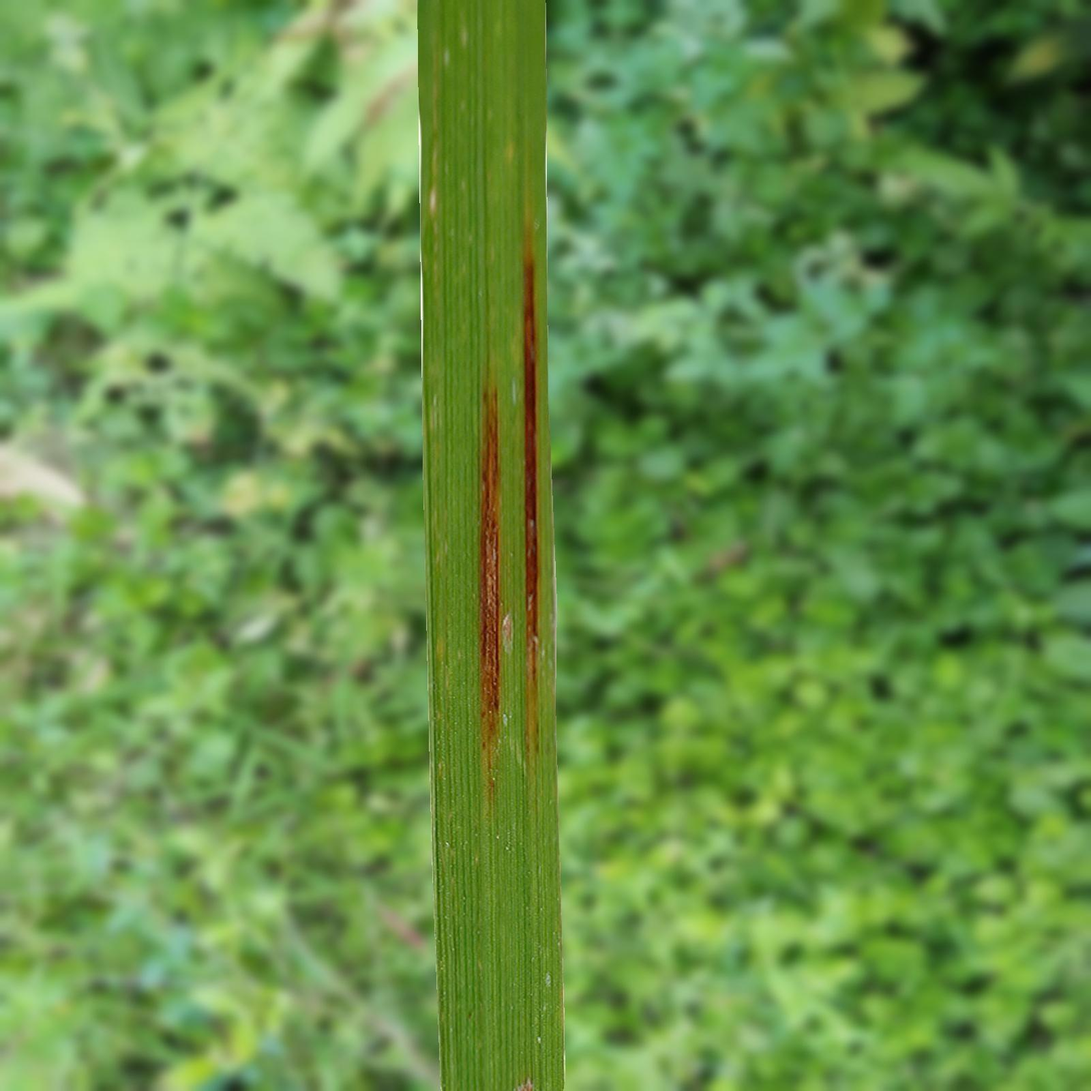LEAF: (417, 0, 565, 1090)
NBS: (476, 367, 504, 796), (521, 206, 541, 758)
